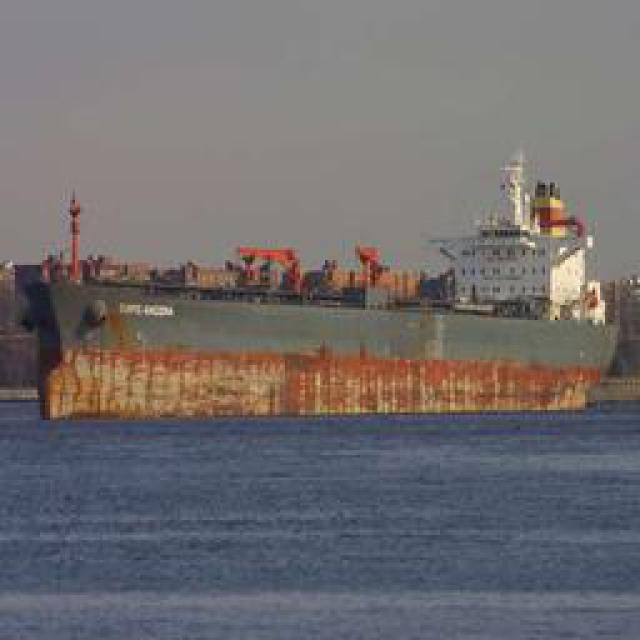Ship: (27, 152, 614, 437)
